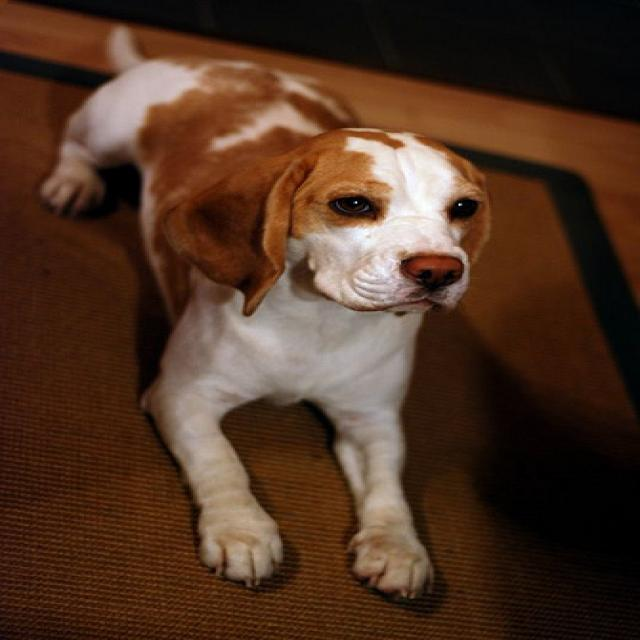dog-beagle: (27, 17, 495, 612)
